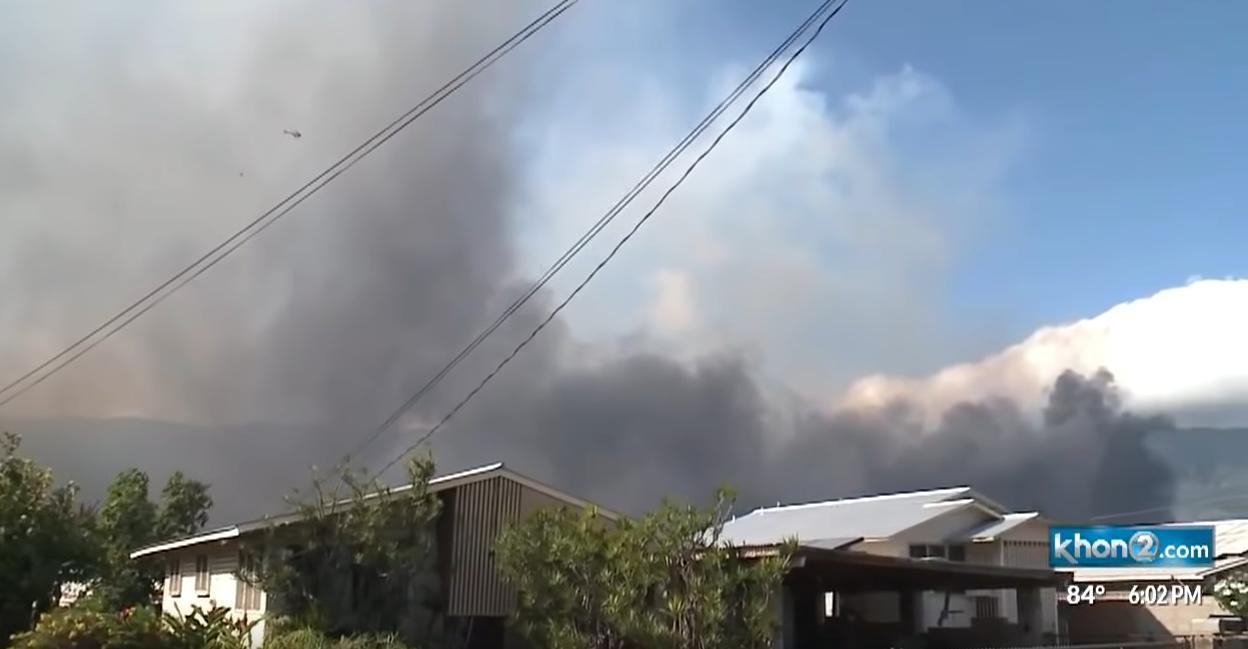smoke: (12, 22, 207, 235), (270, 203, 483, 387), (580, 373, 738, 487)
